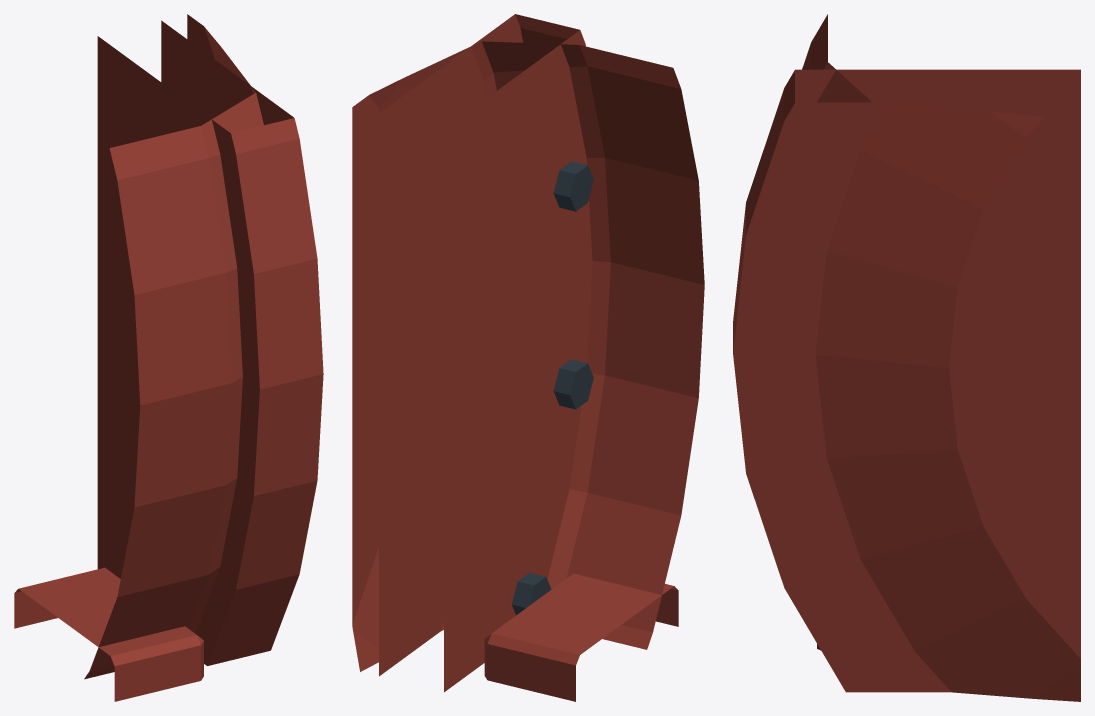
The model's file is cell_48.obj.
3 views of the same model, side by side, from view 1: azimuth 30°, elevation 25°; view 2: azimuth 150°, elevation 25°; view 3: azimuth 270°, elevation 25° (orthographic). The views are drawn at different scales.
Bounding box in the file's own units: 0.3725 × 1 × 0.5346.
